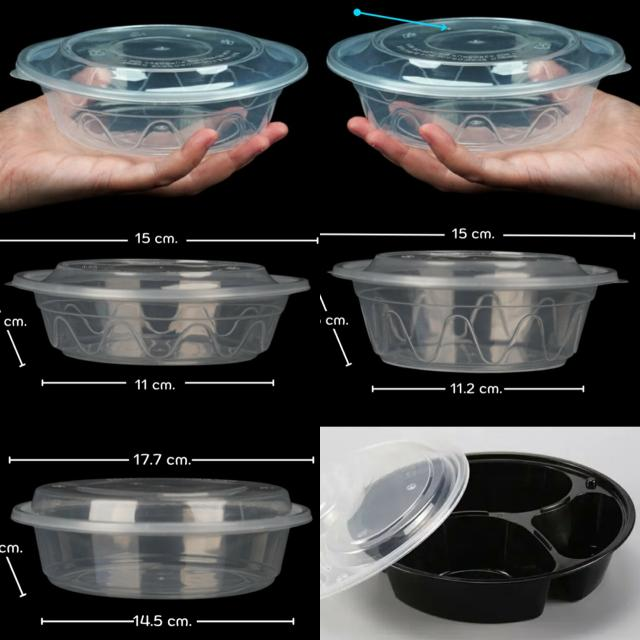plastik: (387, 452, 634, 622), (327, 18, 630, 151), (11, 25, 308, 156), (11, 478, 311, 599), (332, 250, 623, 371), (10, 259, 309, 365), (320, 441, 469, 598)
